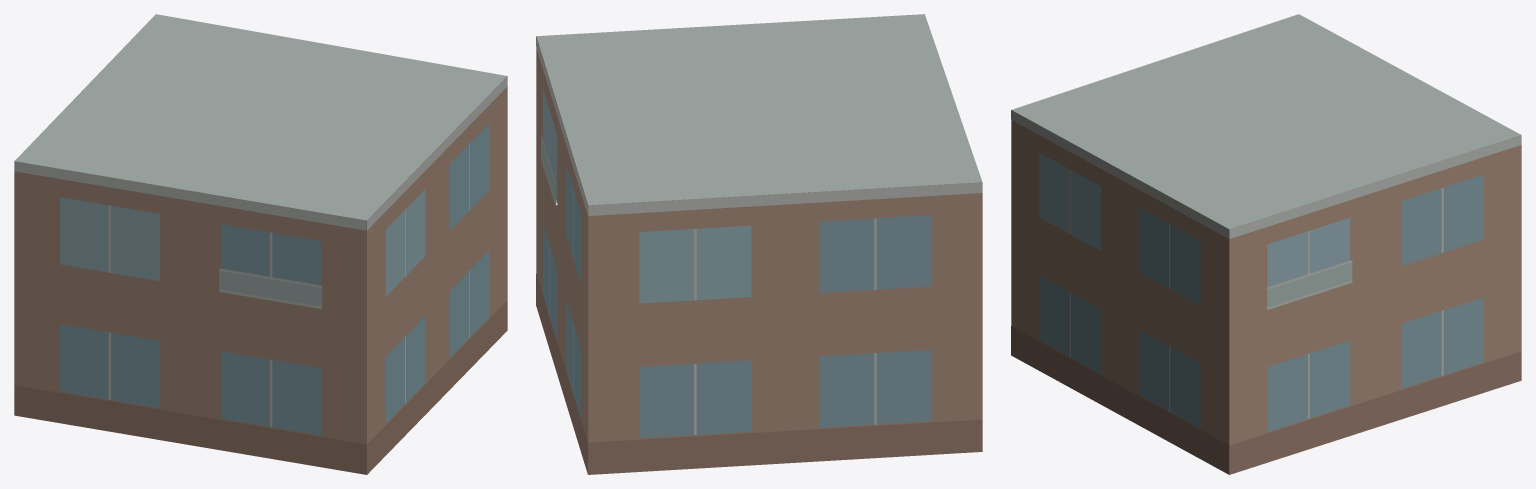
The model's file is survey-upis-32596474.glb.
3 renders of one model, left to right at view 1: azimuth 30°, elevation 25°; view 2: azimuth 150°, elevation 25°; view 3: azimuth 270°, elevation 25°, orthographic. The views are drawn at different scales.
Parts seen in each view (by area): view 1: survey-upis-32596474.tmp; view 2: survey-upis-32596474.tmp; view 3: survey-upis-32596474.tmp.
Boxes of the visible parts, bbox=[...] form: survey-upis-32596474.tmp: bbox=[14, 14, 507, 474]; survey-upis-32596474.tmp: bbox=[536, 14, 982, 474]; survey-upis-32596474.tmp: bbox=[1011, 14, 1521, 474].
Bounding box in the file's own units: 11.48 × 6.1 × 11.5.
